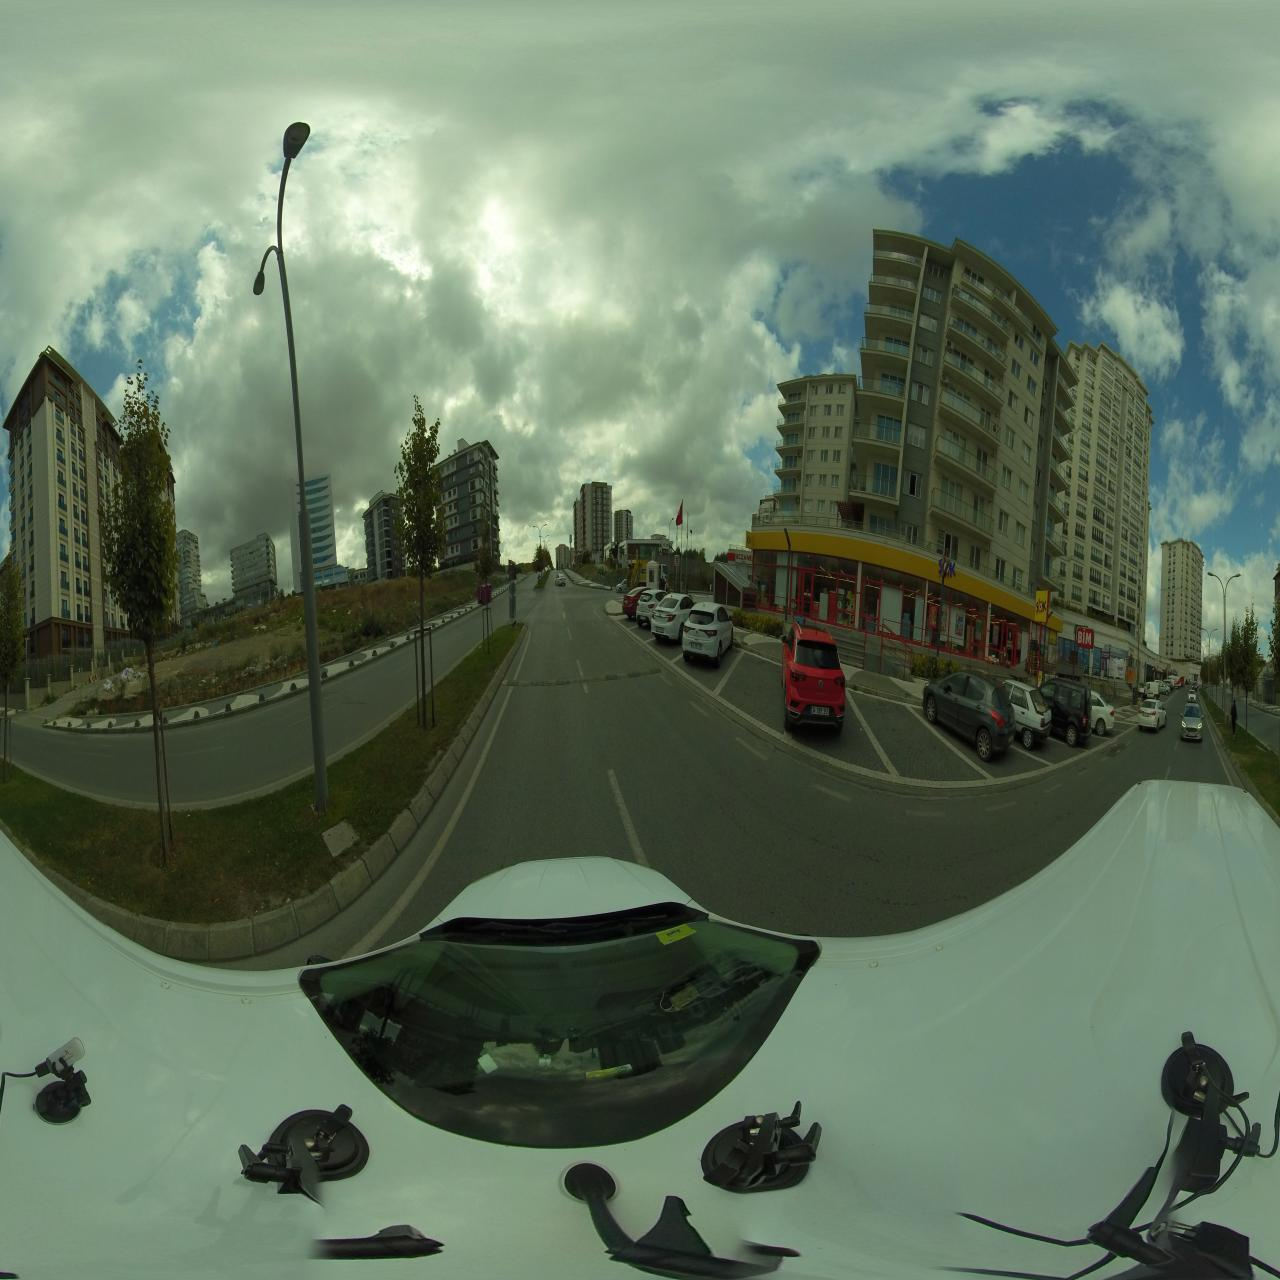SignStore: (934, 552, 962, 586), (734, 550, 753, 565)
